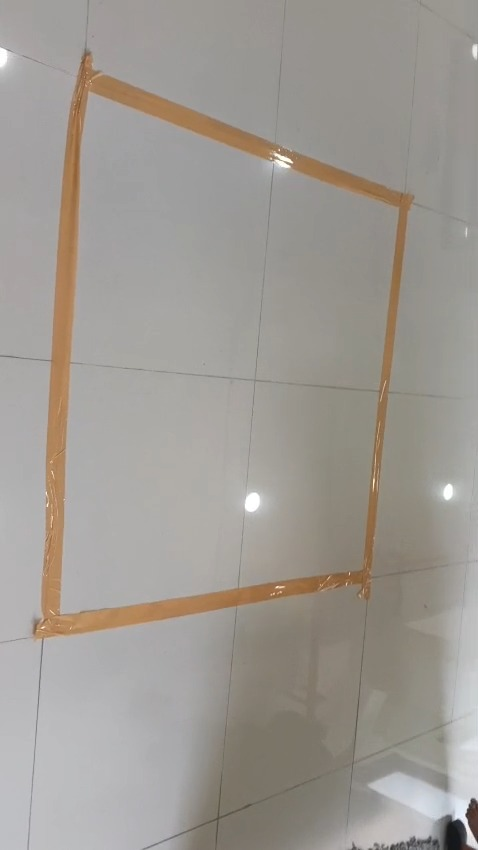floor marking: (35, 52, 412, 638)
